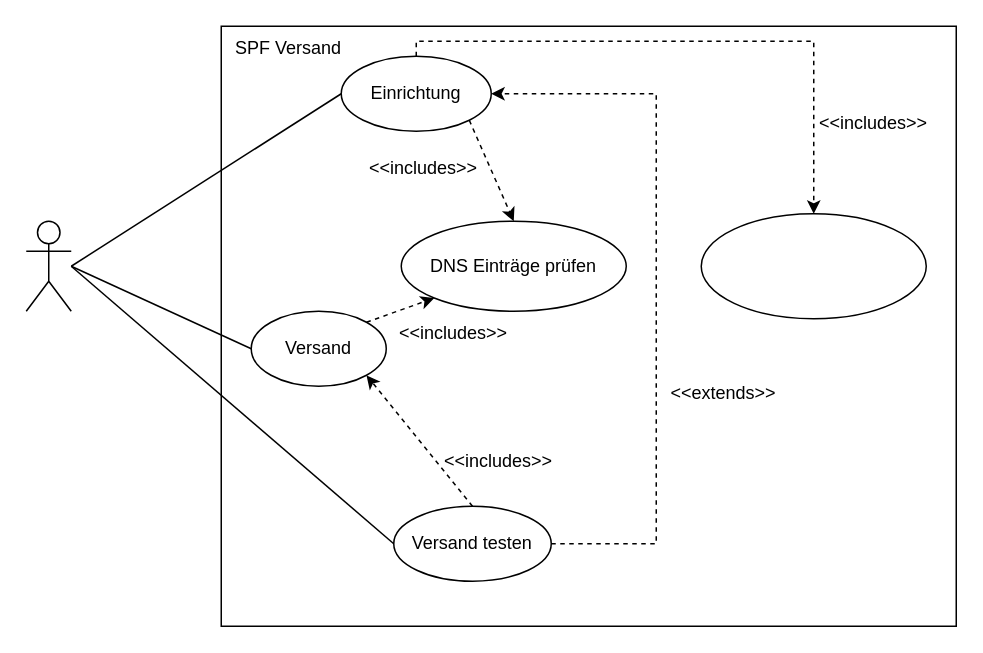
This 983x653 diagram has some shape labels left out. Here are the shapes that lost their labels. From the top down, the box of each, then its label:
(25, 220, 71, 311): Actor
(700, 212, 926, 319): DKIM Schlüsselpaar serstellen
